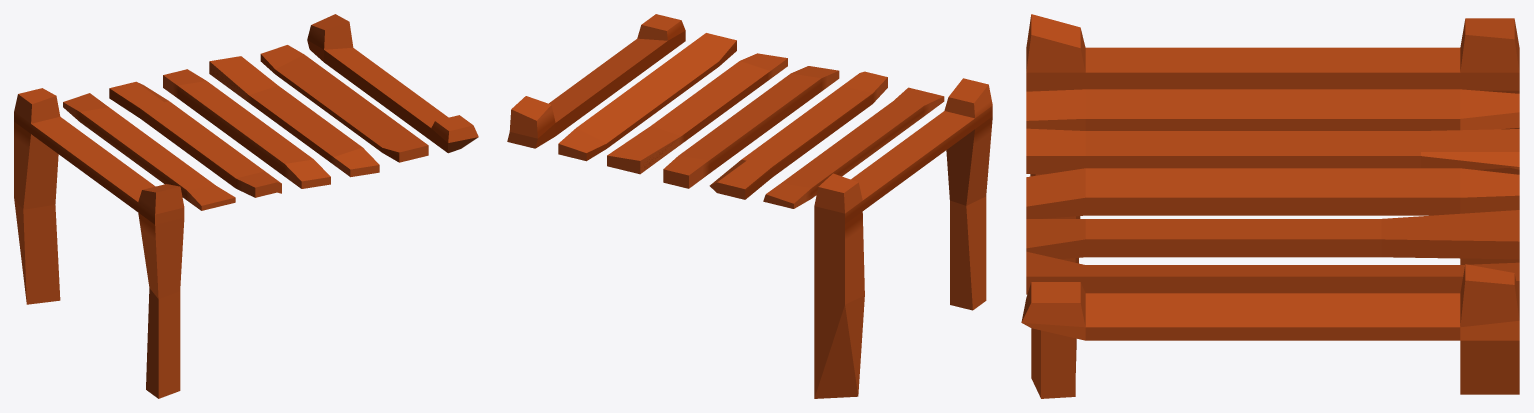
File: Pier 1.fbx
The picture shows the model from 3 angles, left to right: view 1: azimuth 30°, elevation 25°; view 2: azimuth 150°, elevation 25°; view 3: azimuth 270°, elevation 25°; orthographic projection. The views are drawn at different scales.
Visible parts, largest first — view 1: Pier; view 2: Pier; view 3: Pier.
Boxes of the visible parts, left/top/right/bottom form: Pier: left=14, top=14, right=478, bottom=398; Pier: left=507, top=14, right=992, bottom=398; Pier: left=1021, top=14, right=1519, bottom=398.
Bounding box in the file's own units: 209 × 128 × 158.
1 material, 1 textured.
